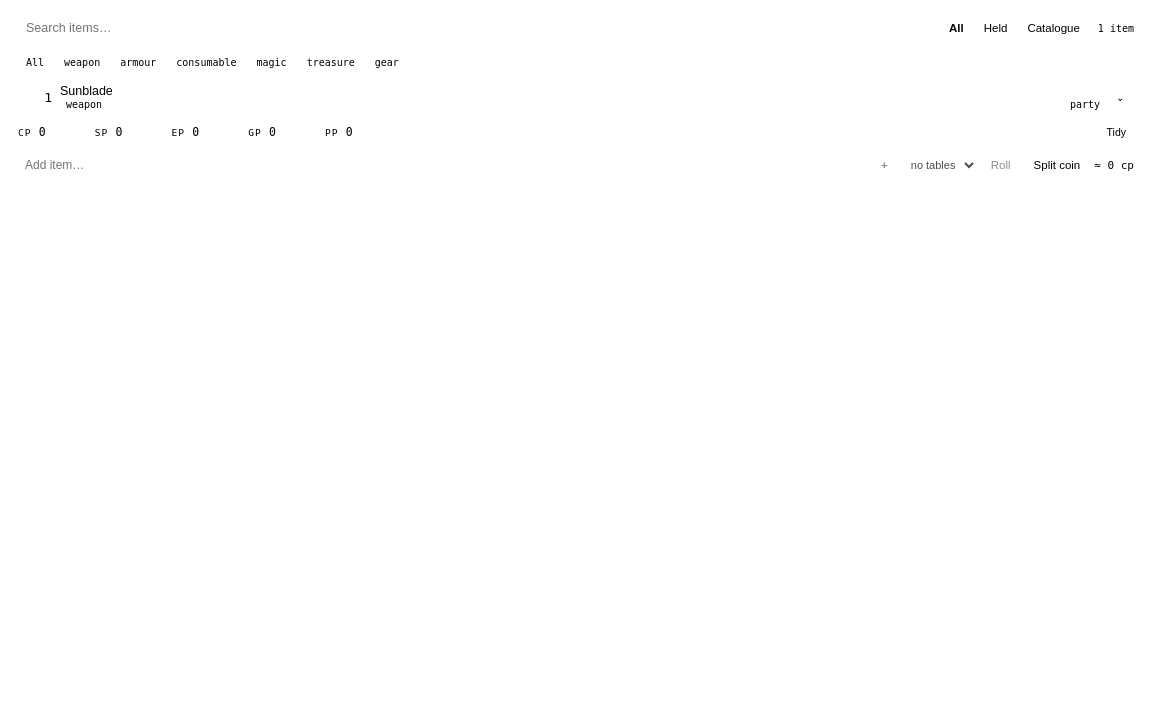
it: Items weapon and armour detail › shows the block already open for an item that has detail
The width and height of the screenshot is (1152, 720).
Click the text "Sunblade". click: (86,91)
box: x1=60 y1=84 x2=113 y2=98
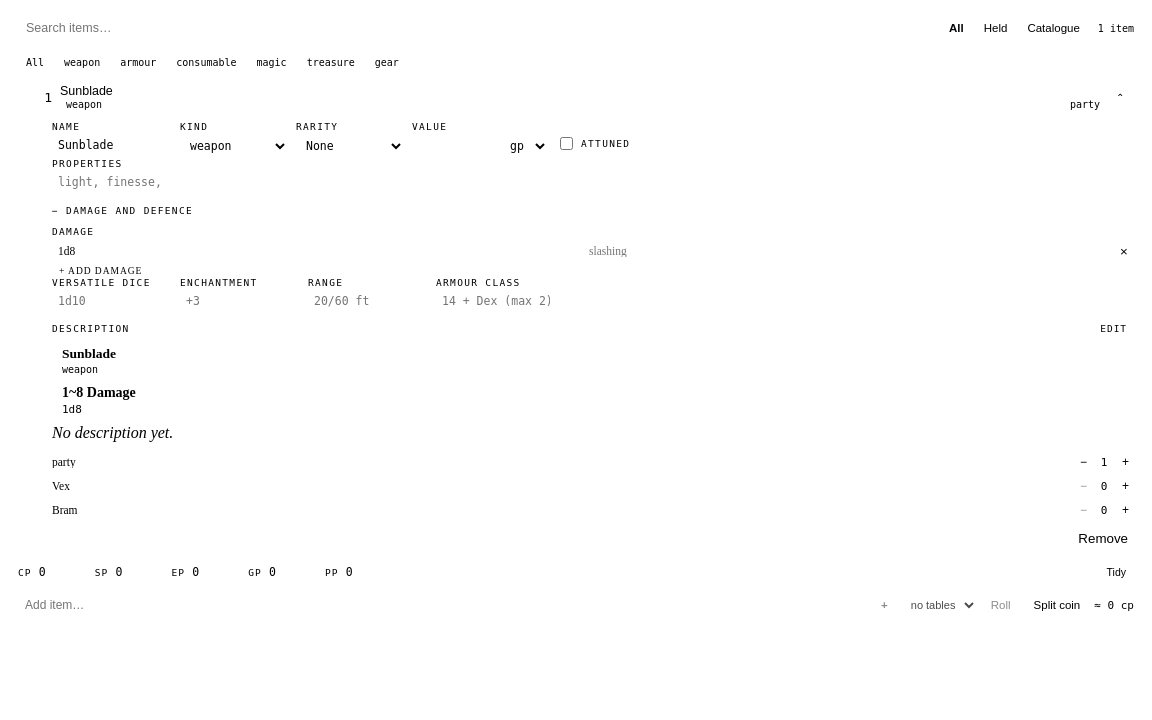
Expected: the field named "Base damage dice" is shown, x1=52 y1=241 x2=579 y2=261
Expected: the field labelled "Range" is shown, x1=308 y1=290 x2=428 y2=312
